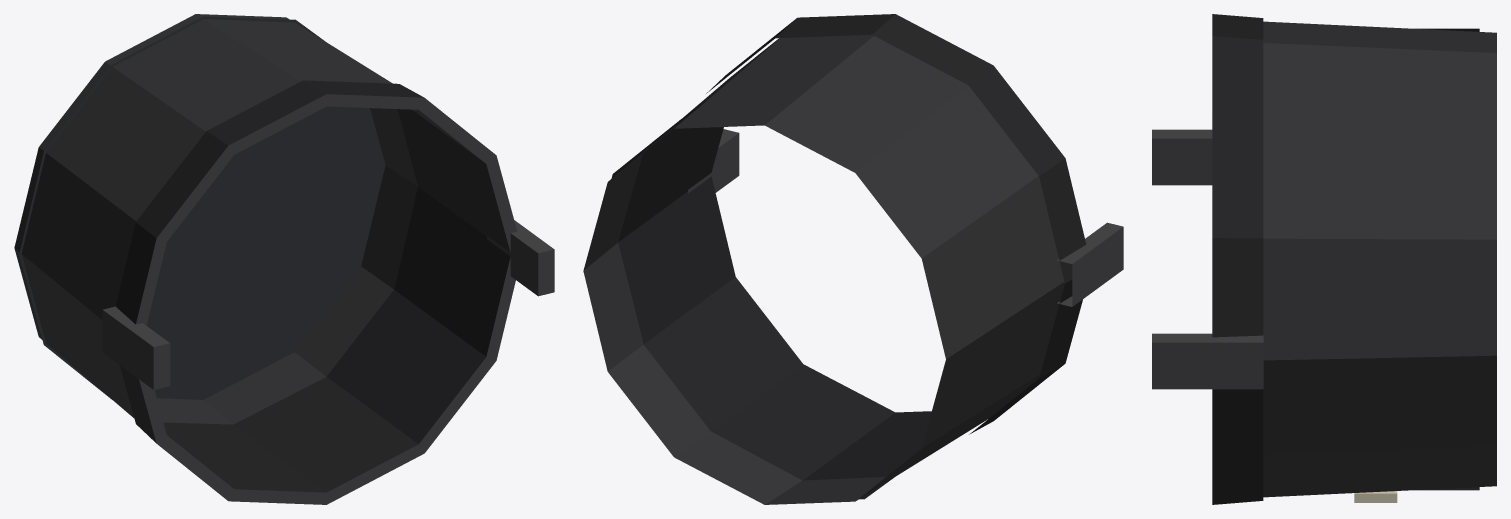
Rendered from a_bag_s.obj.
3 views of the same model, side by side, from view 1: azimuth 30°, elevation 25°; view 2: azimuth 150°, elevation 25°; view 3: azimuth 270°, elevation 25° (orthographic). The views are drawn at different scales.
Bounding box in the file's own units: 0.5862 × 0.5766 × 0.4016.
Materials: 1 (1 with a texture image).
